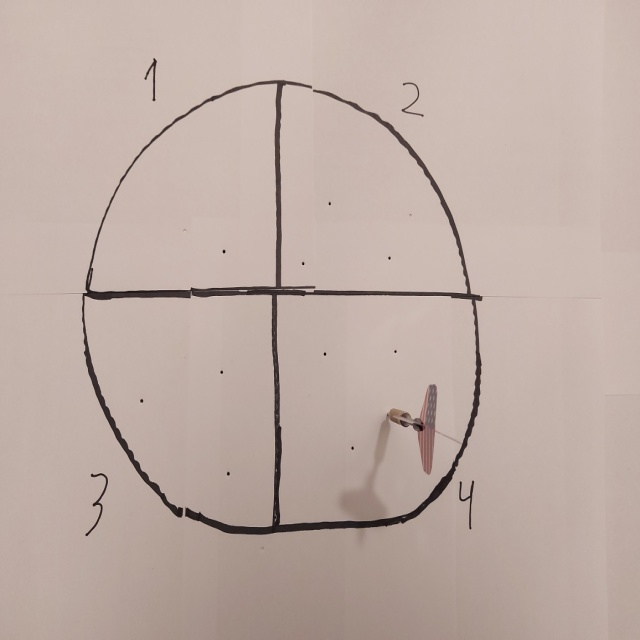Dart: (380, 379, 474, 478)
